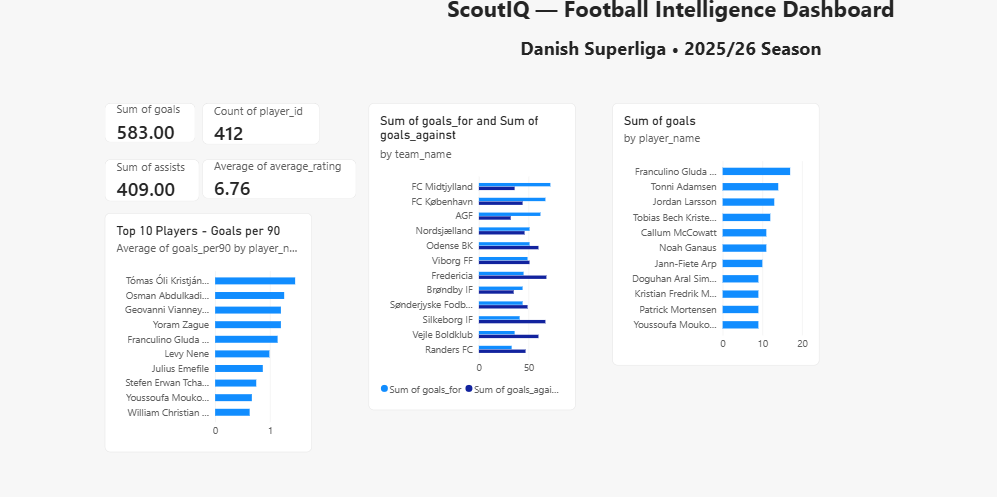

This screenshot's page, from the dashboard's own definition file:
{"tool":"powerbi","page":{"name":"ScoutIQ Overview","canvas":[1920,1080],"ordinal":0},"visuals":[{"type":"cardVisual","fields":{"Data":["Count(scoutiq vw_player_scouting_features.player_id)"]},"box":[298.9,160,170,60],"z":0},{"type":"cardVisual","fields":{"Data":["Sum(scoutiq vw_player_season_performance.goals)"]},"box":[156.7,160,131.1,57.8],"z":1000},{"type":"cardVisual","fields":{"Data":["Sum(scoutiq vw_player_season_performance.assists)"]},"box":[156.7,240,137.8,61.1],"z":2000},{"type":"cardVisual","fields":{"Data":["Avg(scoutiq vw_player_season_performance.average_rating)"]},"box":[298.9,240,223.3,57.8],"z":3000},{"type":"clusteredBarChart","title":"Top 10 Players - Goals per 90","fields":{"Category":["scoutiq vw_player_scouting_features.player_name"],"Y":["Avg(scoutiq vw_player_scouting_features.goals_per90)"]},"box":[156.7,318.9,300,346.7],"z":4000},{"type":"clusteredBarChart","fields":{"Category":["scoutiq vw_team_season_performance_named.team_name"],"Y":["Sum(scoutiq vw_team_season_performance_named.goals_for)","Sum(scoutiq vw_team_season_performance_named.goals_against)"]},"box":[540,160,300,445],"z":5000},{"type":"clusteredBarChart","fields":{"Category":["scoutiq vw_player_season_performance_named.player_name"],"Y":["Sum(scoutiq vw_player_season_performance_named.goals)"]},"box":[892.9,160,300,380],"z":6000},{"type":"textbox","box":[150,235,300,150],"z":7000},{"type":"textbox","box":[150,0,1654,138],"z":8000}]}

Visuals, with their boxes on the page's 1920x1080 design canvas (x1, y1, x2, y2). These are canvas units, not pixel positions in the 997x497 screenshot, which may show the page scaled, cropped or inside an application window:
cardVisual - Count(scoutiq vw_player_scouting_features.player_id): BBox(299, 160, 469, 220)
cardVisual - Sum(scoutiq vw_player_season_performance.goals): BBox(157, 160, 288, 218)
cardVisual - Sum(scoutiq vw_player_season_performance.assists): BBox(157, 240, 294, 301)
cardVisual - Avg(scoutiq vw_player_season_performance.average_rating): BBox(299, 240, 522, 298)
"Top 10 Players - Goals per 90" clusteredBarChart: BBox(157, 319, 457, 666)
clusteredBarChart - scoutiq vw_team_season_performance_named.team_name x Sum(scoutiq vw_team_season_performance_named.goals_for): BBox(540, 160, 840, 605)
clusteredBarChart - scoutiq vw_player_season_performance_named.player_name x Sum(scoutiq vw_player_season_performance_named.goals): BBox(893, 160, 1193, 540)
textbox: BBox(150, 235, 450, 385)
textbox: BBox(150, 0, 1804, 138)
